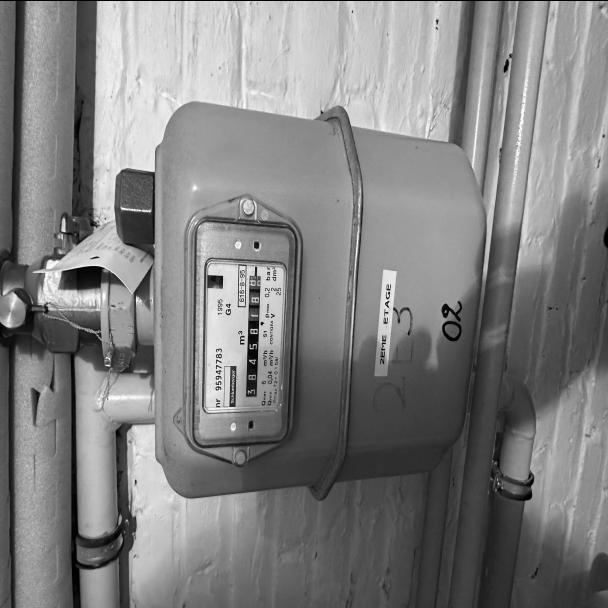1: (244, 305, 264, 323)
3: (244, 381, 260, 399)
4: (242, 354, 260, 368)
5: (242, 340, 260, 352)
8: (248, 266, 262, 292), (243, 322, 262, 338), (248, 290, 263, 306), (244, 368, 260, 382)
counter: (244, 319, 260, 399)
